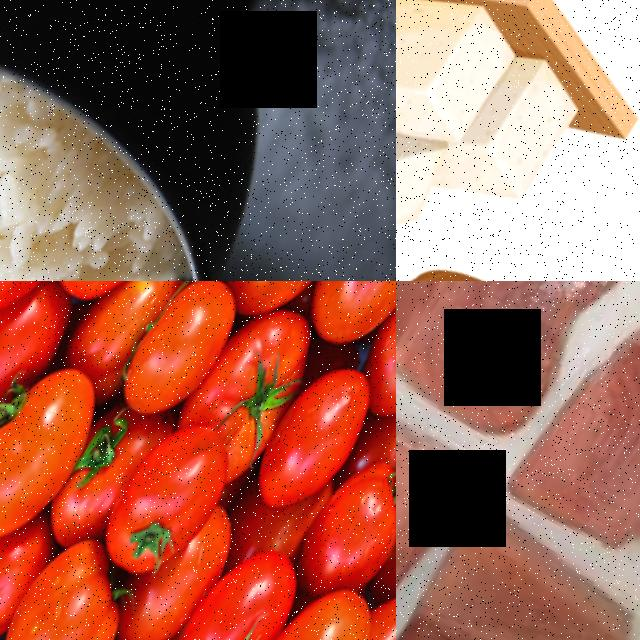tofu: (447, 51, 600, 223), (396, 0, 539, 177)
tomato: (86, 403, 263, 598), (0, 346, 131, 570), (159, 530, 329, 640), (236, 571, 396, 640)
tuna: (496, 281, 640, 607), (396, 281, 640, 462), (396, 488, 640, 640), (396, 348, 500, 640)
white rice: (0, 9, 248, 281)
